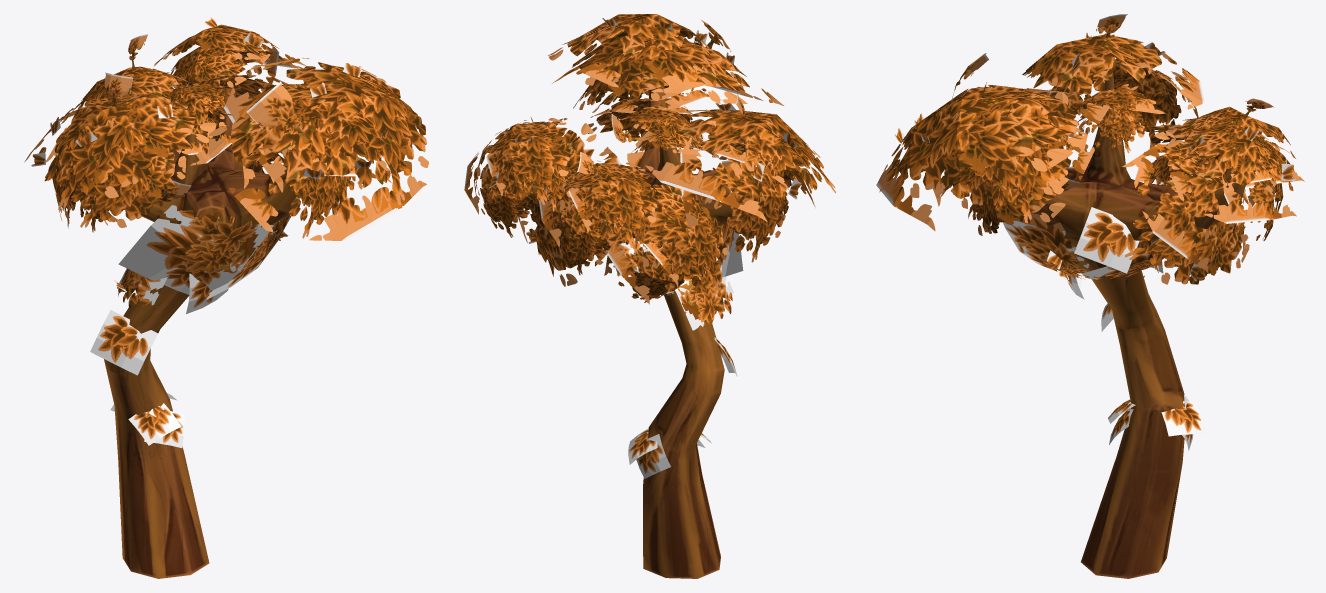
File: 6_Cafe.fbx
3 views of the same model, side by side, from view 1: azimuth 30°, elevation 25°; view 2: azimuth 150°, elevation 25°; view 3: azimuth 270°, elevation 25° (orthographic). The views are drawn at different scales.
Visible parts, largest first — view 1: 6_Cafe; view 2: 6_Cafe; view 3: 6_Cafe.
Part boxes in pixels (<box>): 6_Cafe: <box>24,16,428,578</box>; 6_Cafe: <box>464,14,835,578</box>; 6_Cafe: <box>876,14,1304,578</box>.
Bounding box in the file's own units: 528 × 768 × 573.
